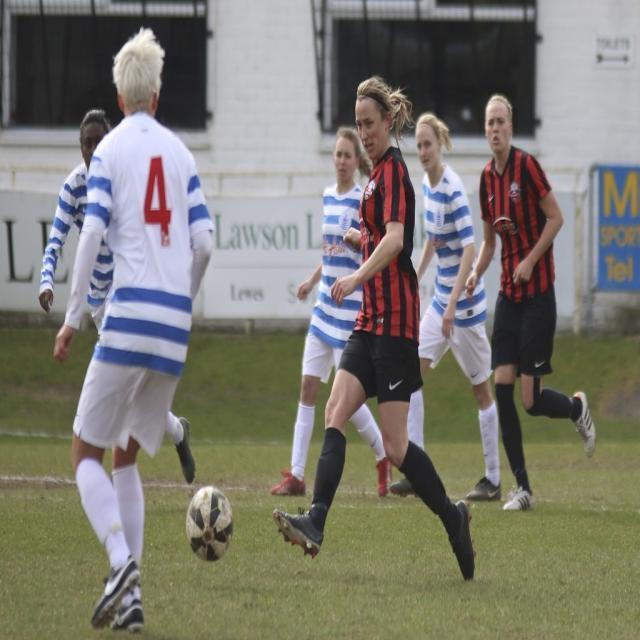ball: (186, 483, 235, 564)
